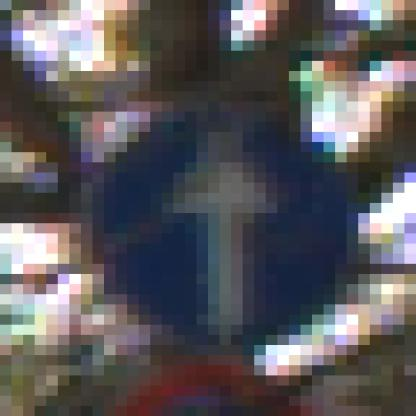AheadOnly: (59, 62, 348, 356)
